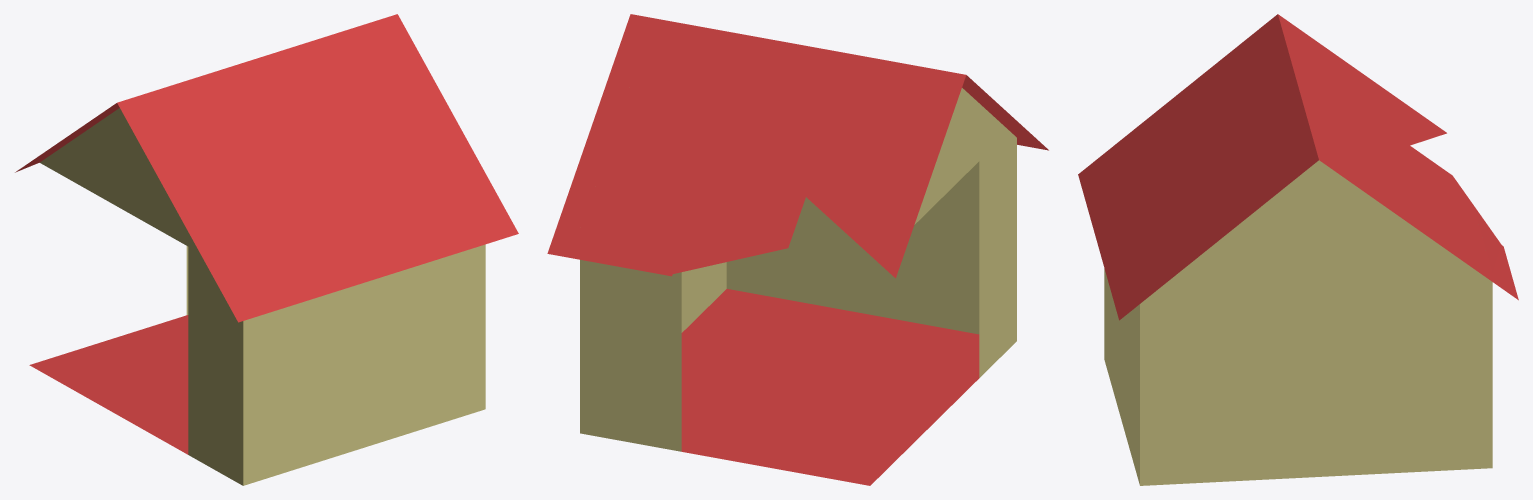
The picture shows the model from 3 angles, left to right: view 1: azimuth 30°, elevation 25°; view 2: azimuth 150°, elevation 25°; view 3: azimuth 270°, elevation 25°; orthographic projection. The views are drawn at different scales.
Size of the model in its own units: 12.33 by 13.94 by 11.4.
